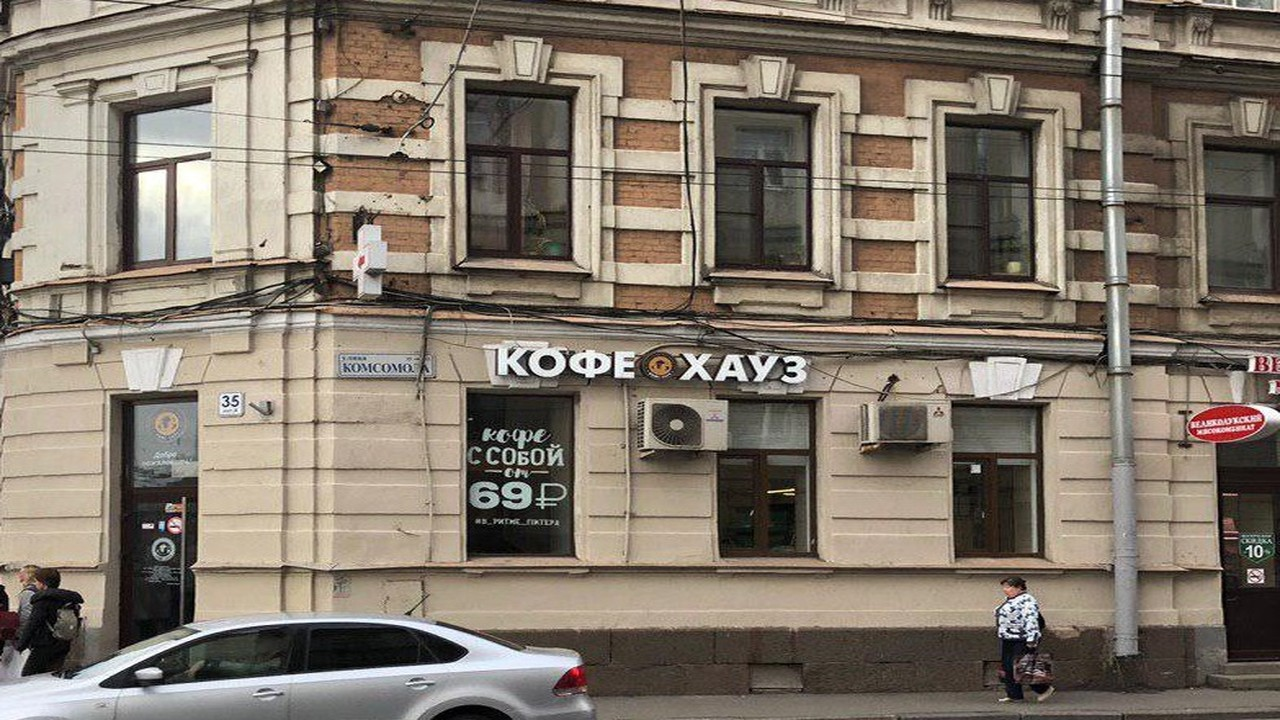cantilever: (1177, 402, 1277, 448), (351, 222, 389, 300)
door: (127, 492, 197, 632)
signboard: (486, 338, 811, 391)
window: (465, 390, 578, 561), (469, 92, 577, 257), (717, 102, 813, 273), (942, 118, 1040, 283), (123, 92, 209, 273), (722, 399, 817, 562), (949, 400, 1040, 559), (1207, 144, 1278, 290), (125, 396, 199, 492)
